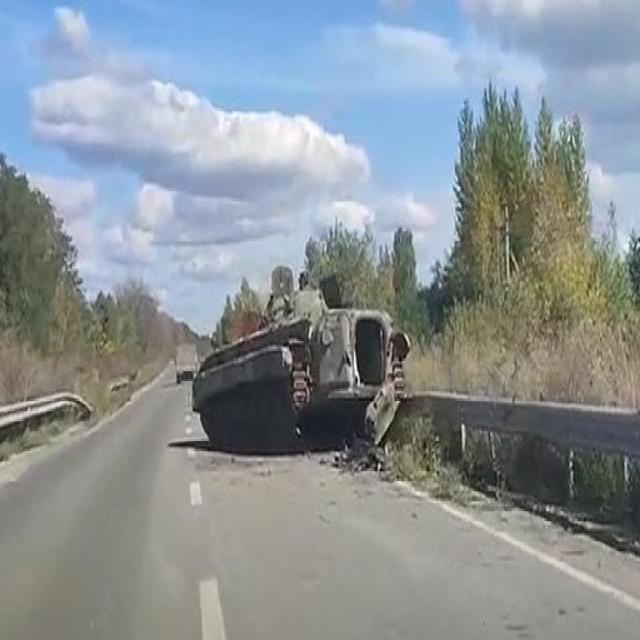APC-IFV: (193, 256, 405, 460)
TRUCK: (175, 333, 199, 382)
